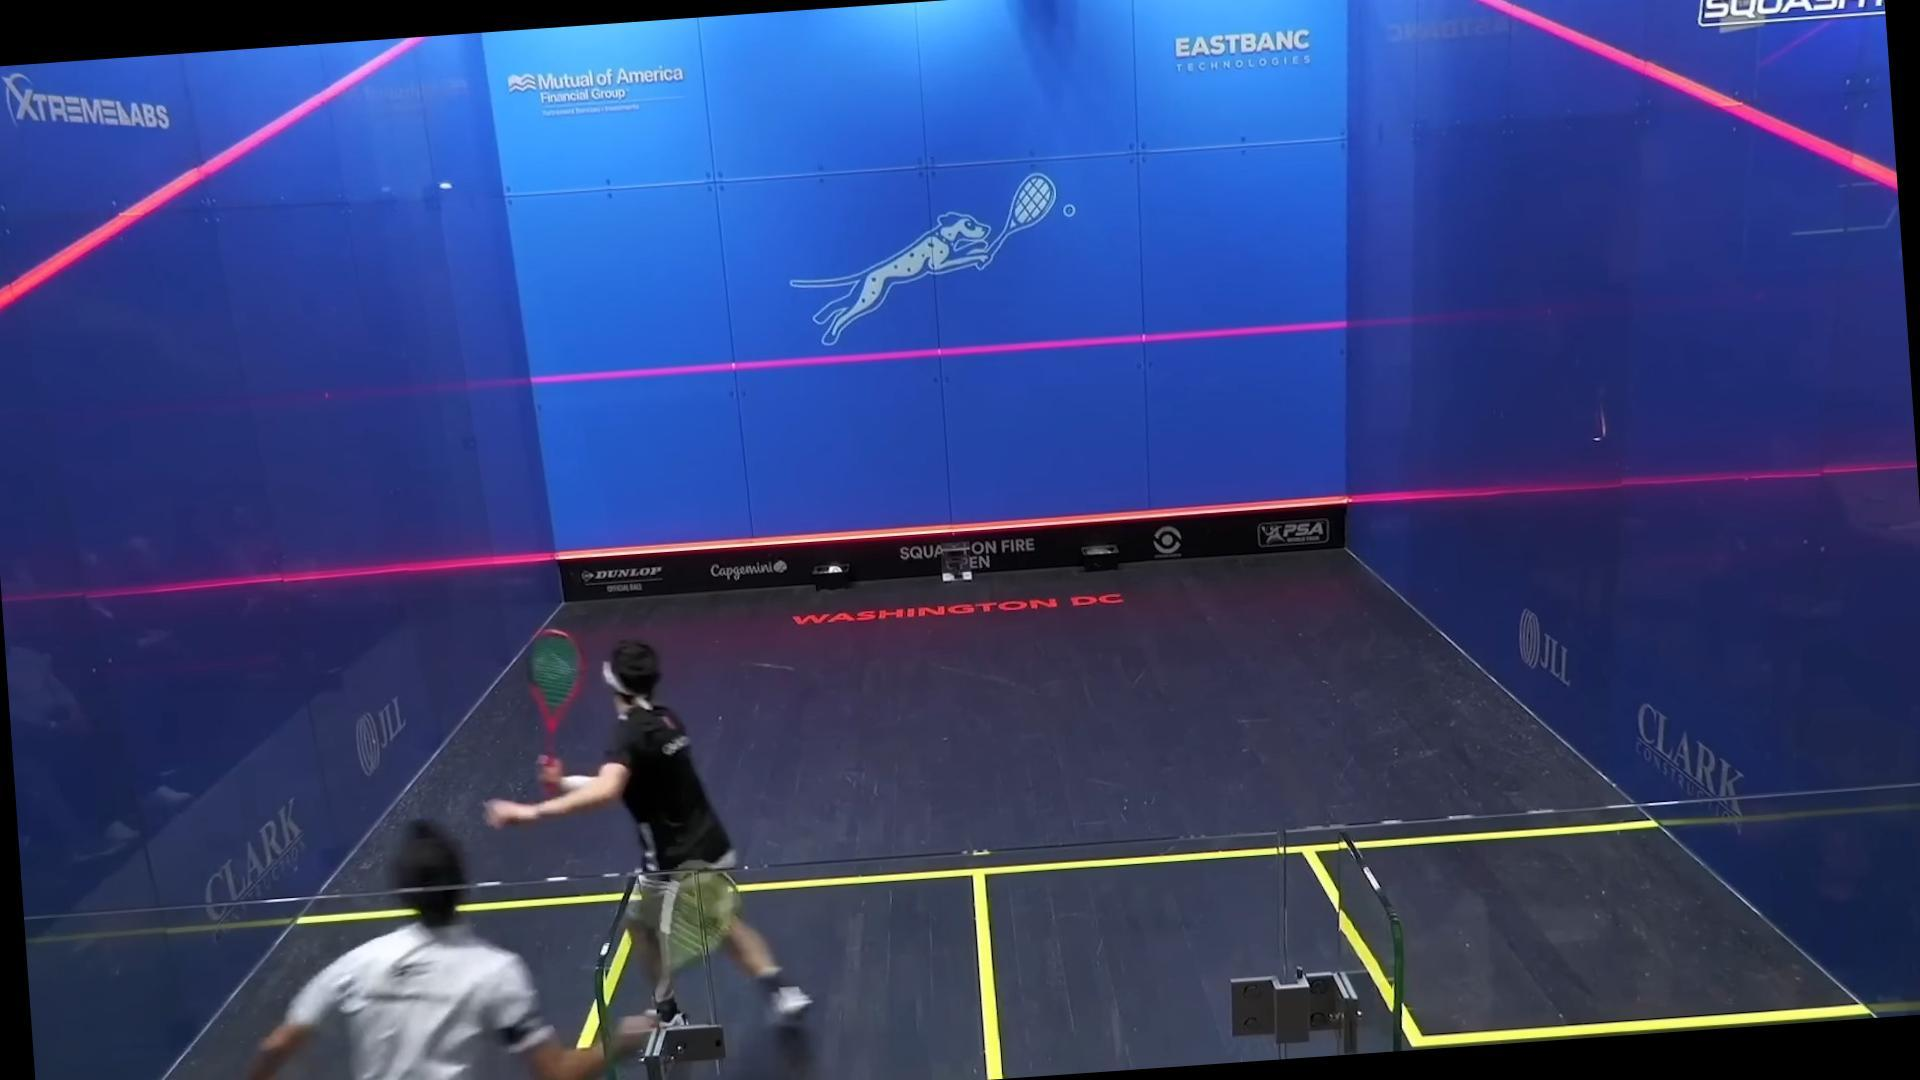Squash-Ball: (418, 164, 469, 210)
